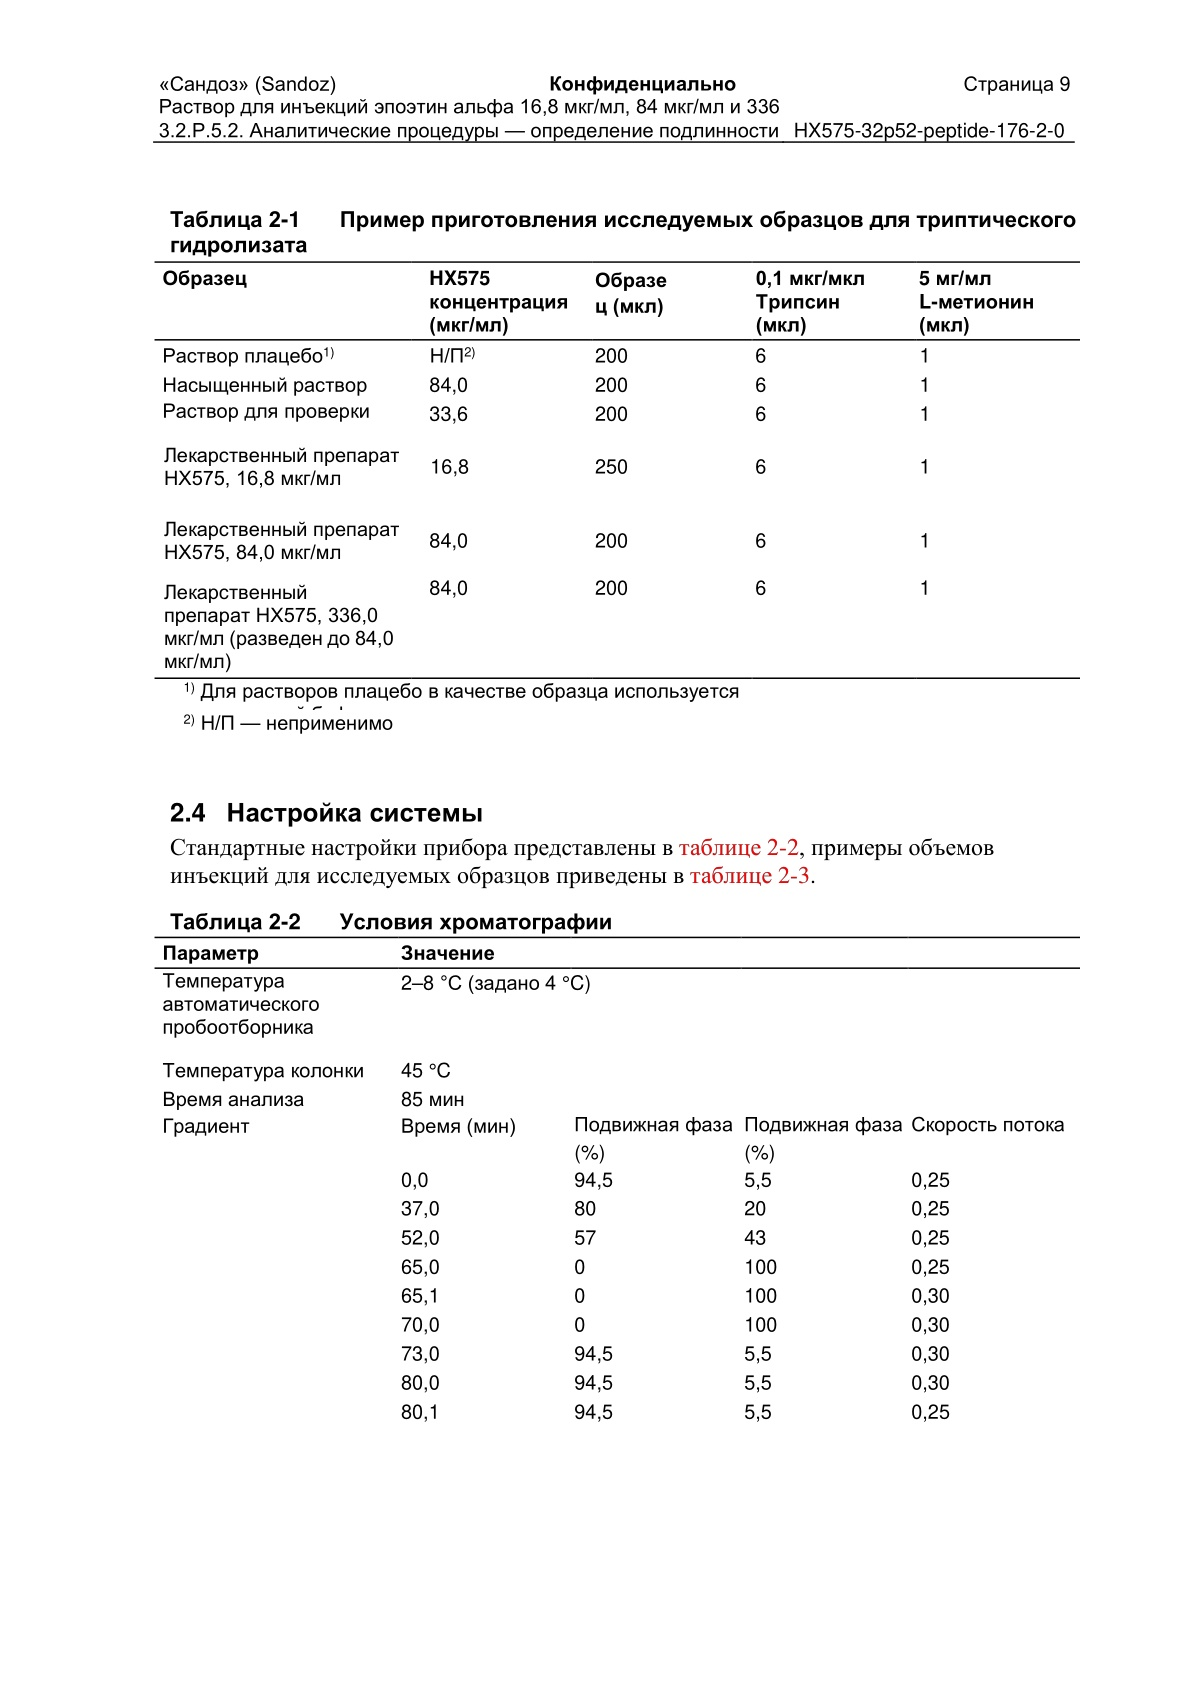partial_lined: (152, 935, 1080, 1428), (153, 259, 1083, 680)
